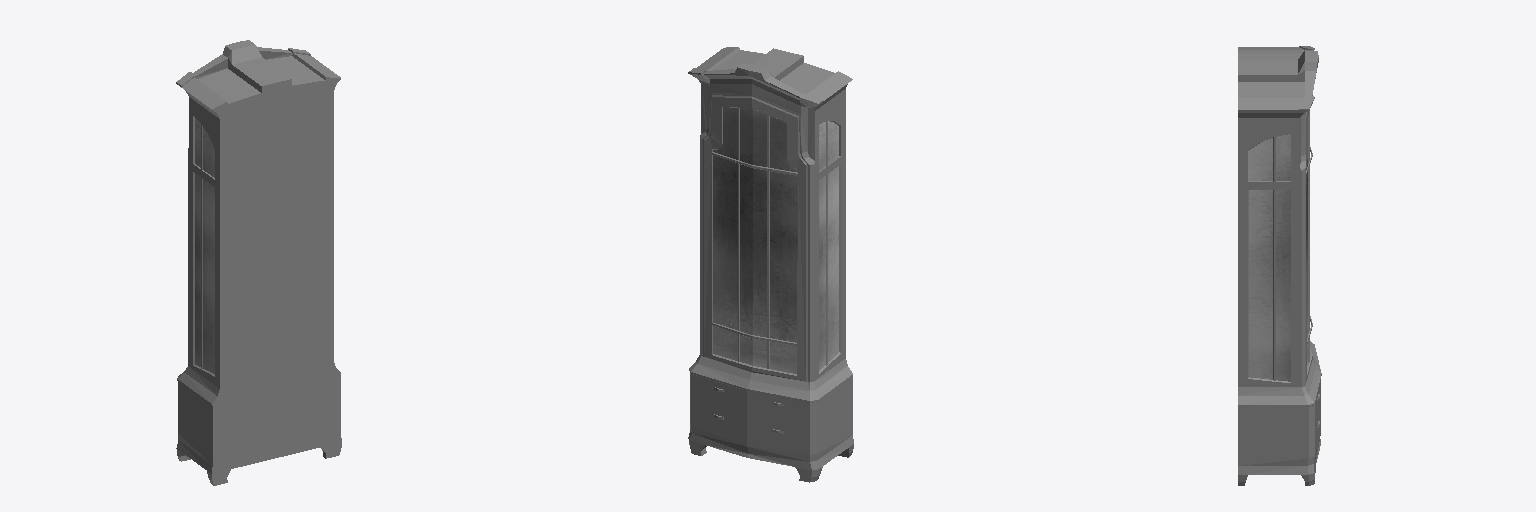
3 renders of one model, left to right at view 1: azimuth 30°, elevation 25°; view 2: azimuth 150°, elevation 25°; view 3: azimuth 270°, elevation 25°, orthographic.
Parts seen in each view (by area): view 1: cupboard_heile; view 2: cupboard_heile; view 3: cupboard_heile.
Part boxes in pixels (x1,y1,x2,y2): cupboard_heile: (176,40,341,485); cupboard_heile: (688,47,853,482); cupboard_heile: (1238,46,1321,485).
Bounding box in the file's own units: 135 × 394 × 74.58.
Materials: 2 (1 with a texture image).